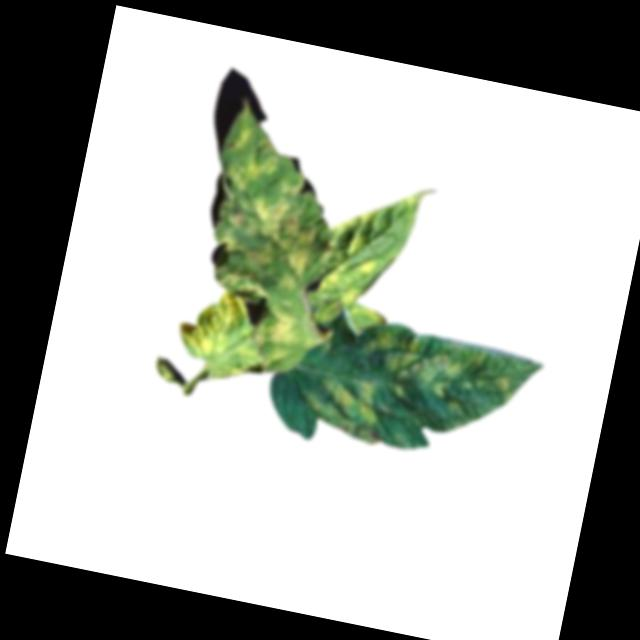Leaf_Mold: (194, 105, 349, 308), (353, 318, 533, 420), (313, 173, 421, 315), (169, 281, 272, 387), (298, 365, 393, 448), (253, 298, 315, 378)
